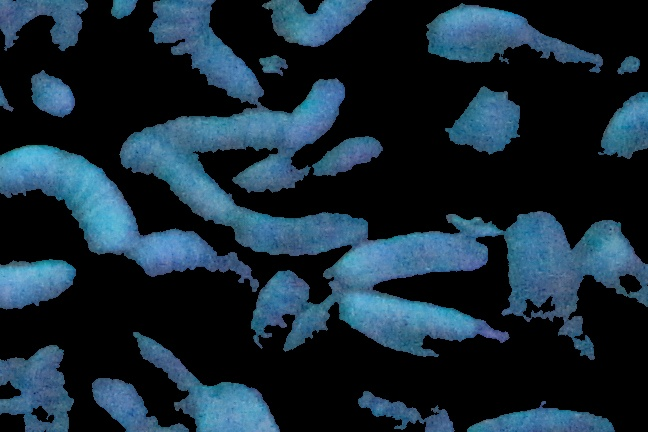larvae: (1, 143, 136, 252), (426, 7, 605, 83), (420, 92, 553, 191), (503, 207, 573, 388), (349, 290, 494, 367), (125, 111, 293, 171), (111, 231, 266, 296), (338, 231, 492, 293), (151, 1, 258, 90), (238, 136, 386, 195), (248, 272, 308, 395), (144, 144, 236, 224), (229, 204, 373, 253), (583, 209, 643, 326), (129, 314, 199, 410), (458, 394, 620, 432), (597, 87, 648, 200), (290, 301, 342, 399), (294, 56, 349, 147), (1, 262, 80, 323), (294, 1, 387, 41), (31, 345, 73, 429), (61, 1, 106, 73), (114, 1, 150, 27)
